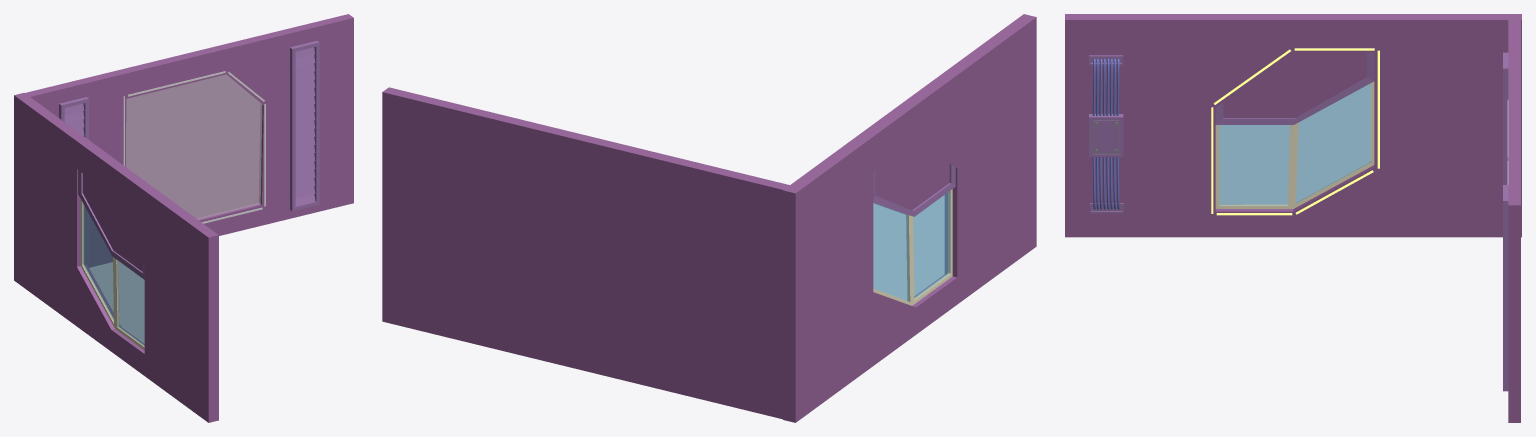
File: walls_tier21.fbx
3 renders of one model, left to right at view 1: azimuth 30°, elevation 25°; view 2: azimuth 150°, elevation 25°; view 3: azimuth 270°, elevation 25°, orthographic. The views are drawn at different scales.
Visible parts, largest first — view 1: Cube.007, Cube, Plane, Cube.004, Cube.003, Cube.015, Cube.001, Cube.002; view 2: Cube.007, Cube, Cube.003, Cube.015, Cube.001; view 3: Cube, Cube.003, Cube.015, Cube.007, Cube.001, Cube.012, cable.001, cable.007, Cube.004, Cube.002.
Boxes of the visible parts, x1,y1,x2,y2 form: Cube.007: (25,14,353,267); Cube: (14,93,218,422); Plane: (126,74,262,219); Cube.004: (290,40,319,211); Cube.003: (82,202,144,346); Cube.015: (78,170,144,279); Cube.001: (80,199,144,350); Cube.002: (59,97,88,260); Cube.007: (382,87,789,419); Cube: (783,14,1036,422); Cube.003: (873,191,949,301); Cube.015: (873,140,955,216); Cube.001: (873,189,952,305); Cube: (1065,14,1521,237); Cube.003: (1219,83,1371,204); Cube.015: (1215,52,1374,124); Cube.007: (1508,20,1520,422); Cube.001: (1215,81,1374,208); Cube.012: (1089,114,1123,156); cable.001: (1092,58,1119,115); cable.007: (1092,157,1119,209); Cube.004: (1503,185,1508,391); Cube.002: (1503,52,1508,184).
Size of the model in its own units: 653 by 346 by 658.
